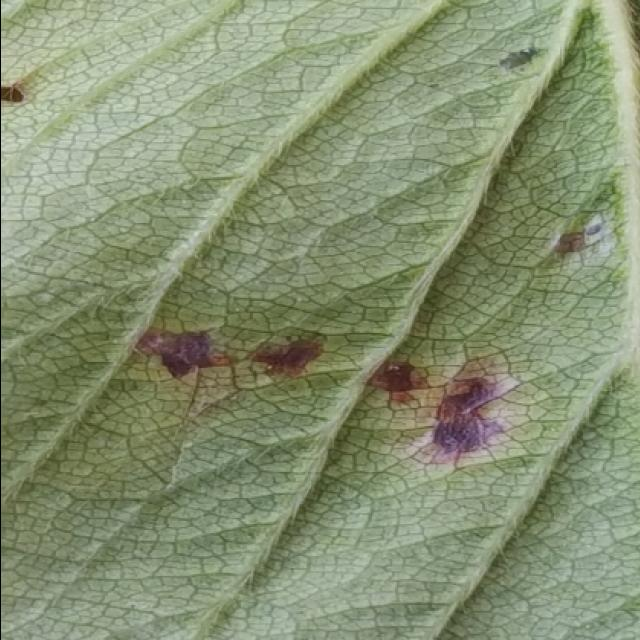Angular Leafspot: (114, 35, 619, 493)
